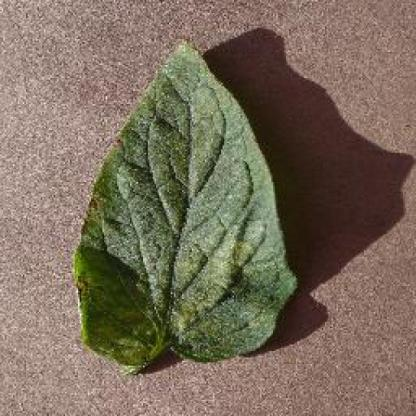Tomato_Spider_Mites: (78, 41, 290, 359)
